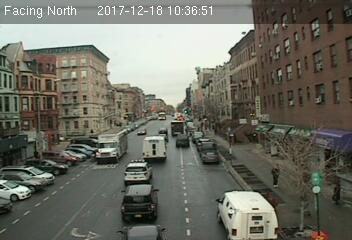car: (121, 183, 159, 222), (115, 221, 169, 240), (201, 151, 217, 161), (176, 135, 190, 146)
police: (125, 158, 152, 181)
truck: (216, 189, 280, 240), (95, 127, 130, 162), (143, 137, 165, 159)
ups: (170, 119, 184, 136)
